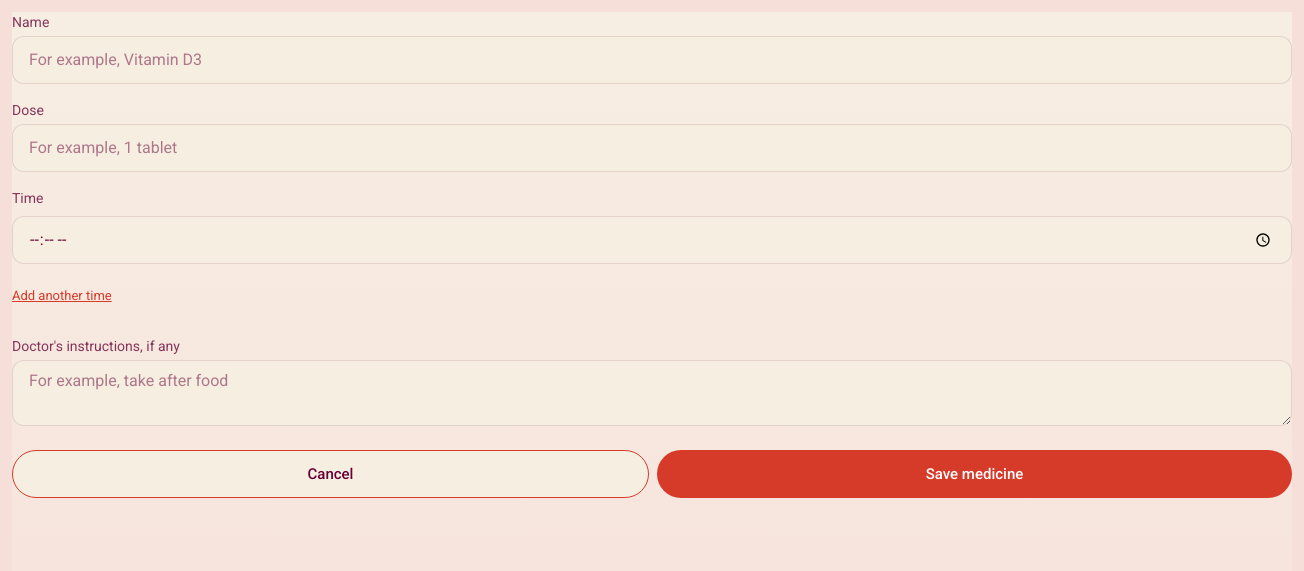
it: MedicineForm › removes a time row
Click the button "Add another time".
click(62, 296)  # box x1=12 y1=272 x2=112 y2=320
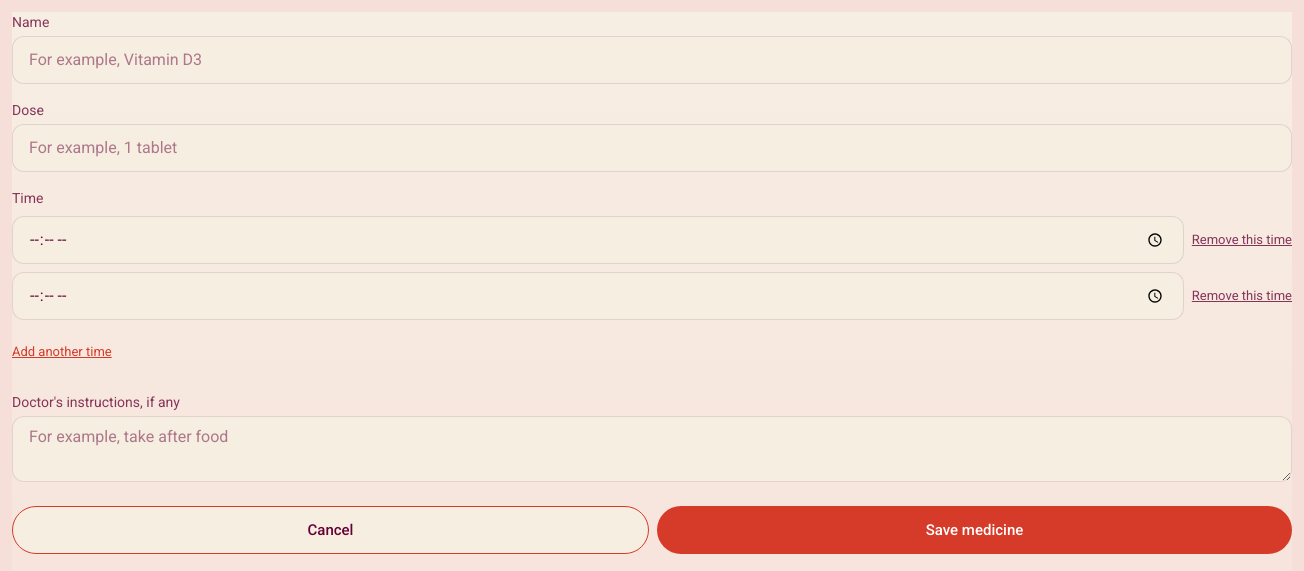
Click the 1st button labelled "Remove this time".
click(1242, 240)  # box x1=1192 y1=216 x2=1292 y2=264
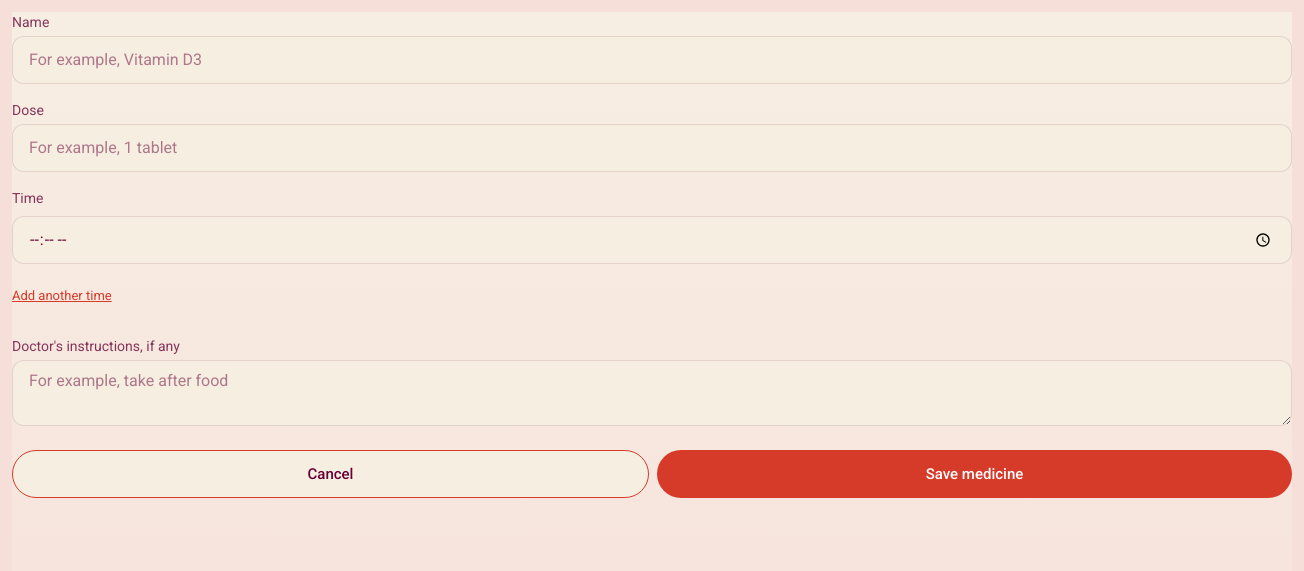
Expected: the number of time fields is 1, x1=12 y1=216 x2=1292 y2=264
